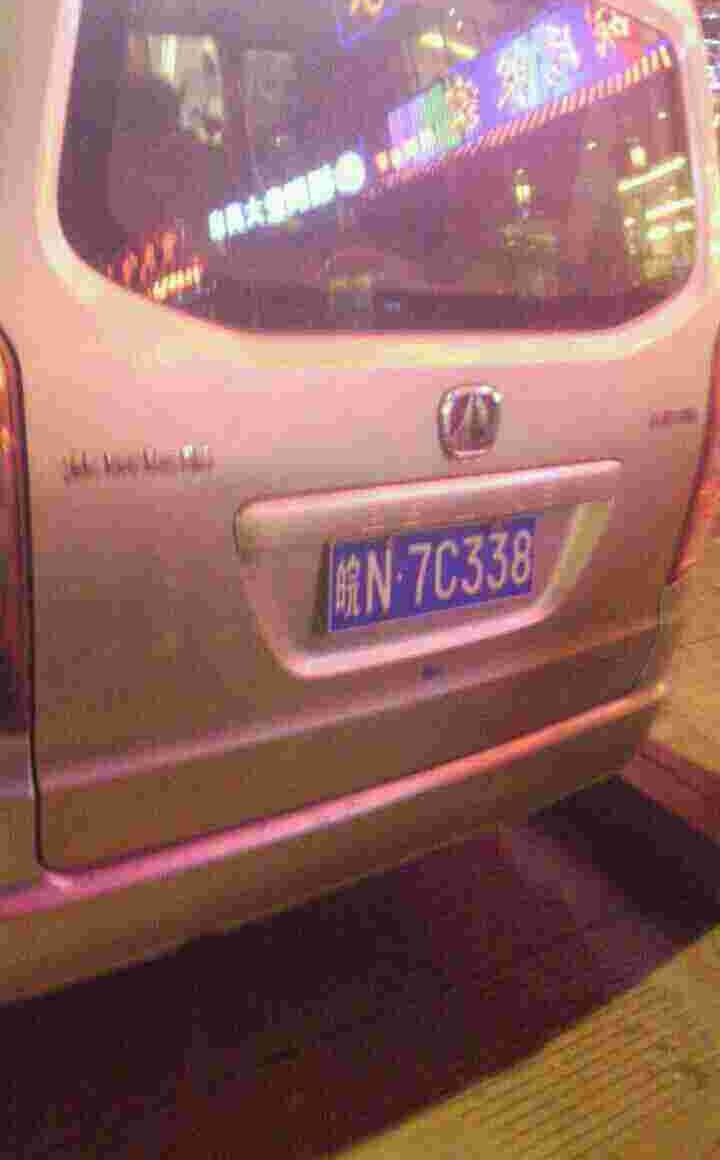license_plate: (327, 523, 543, 633)
